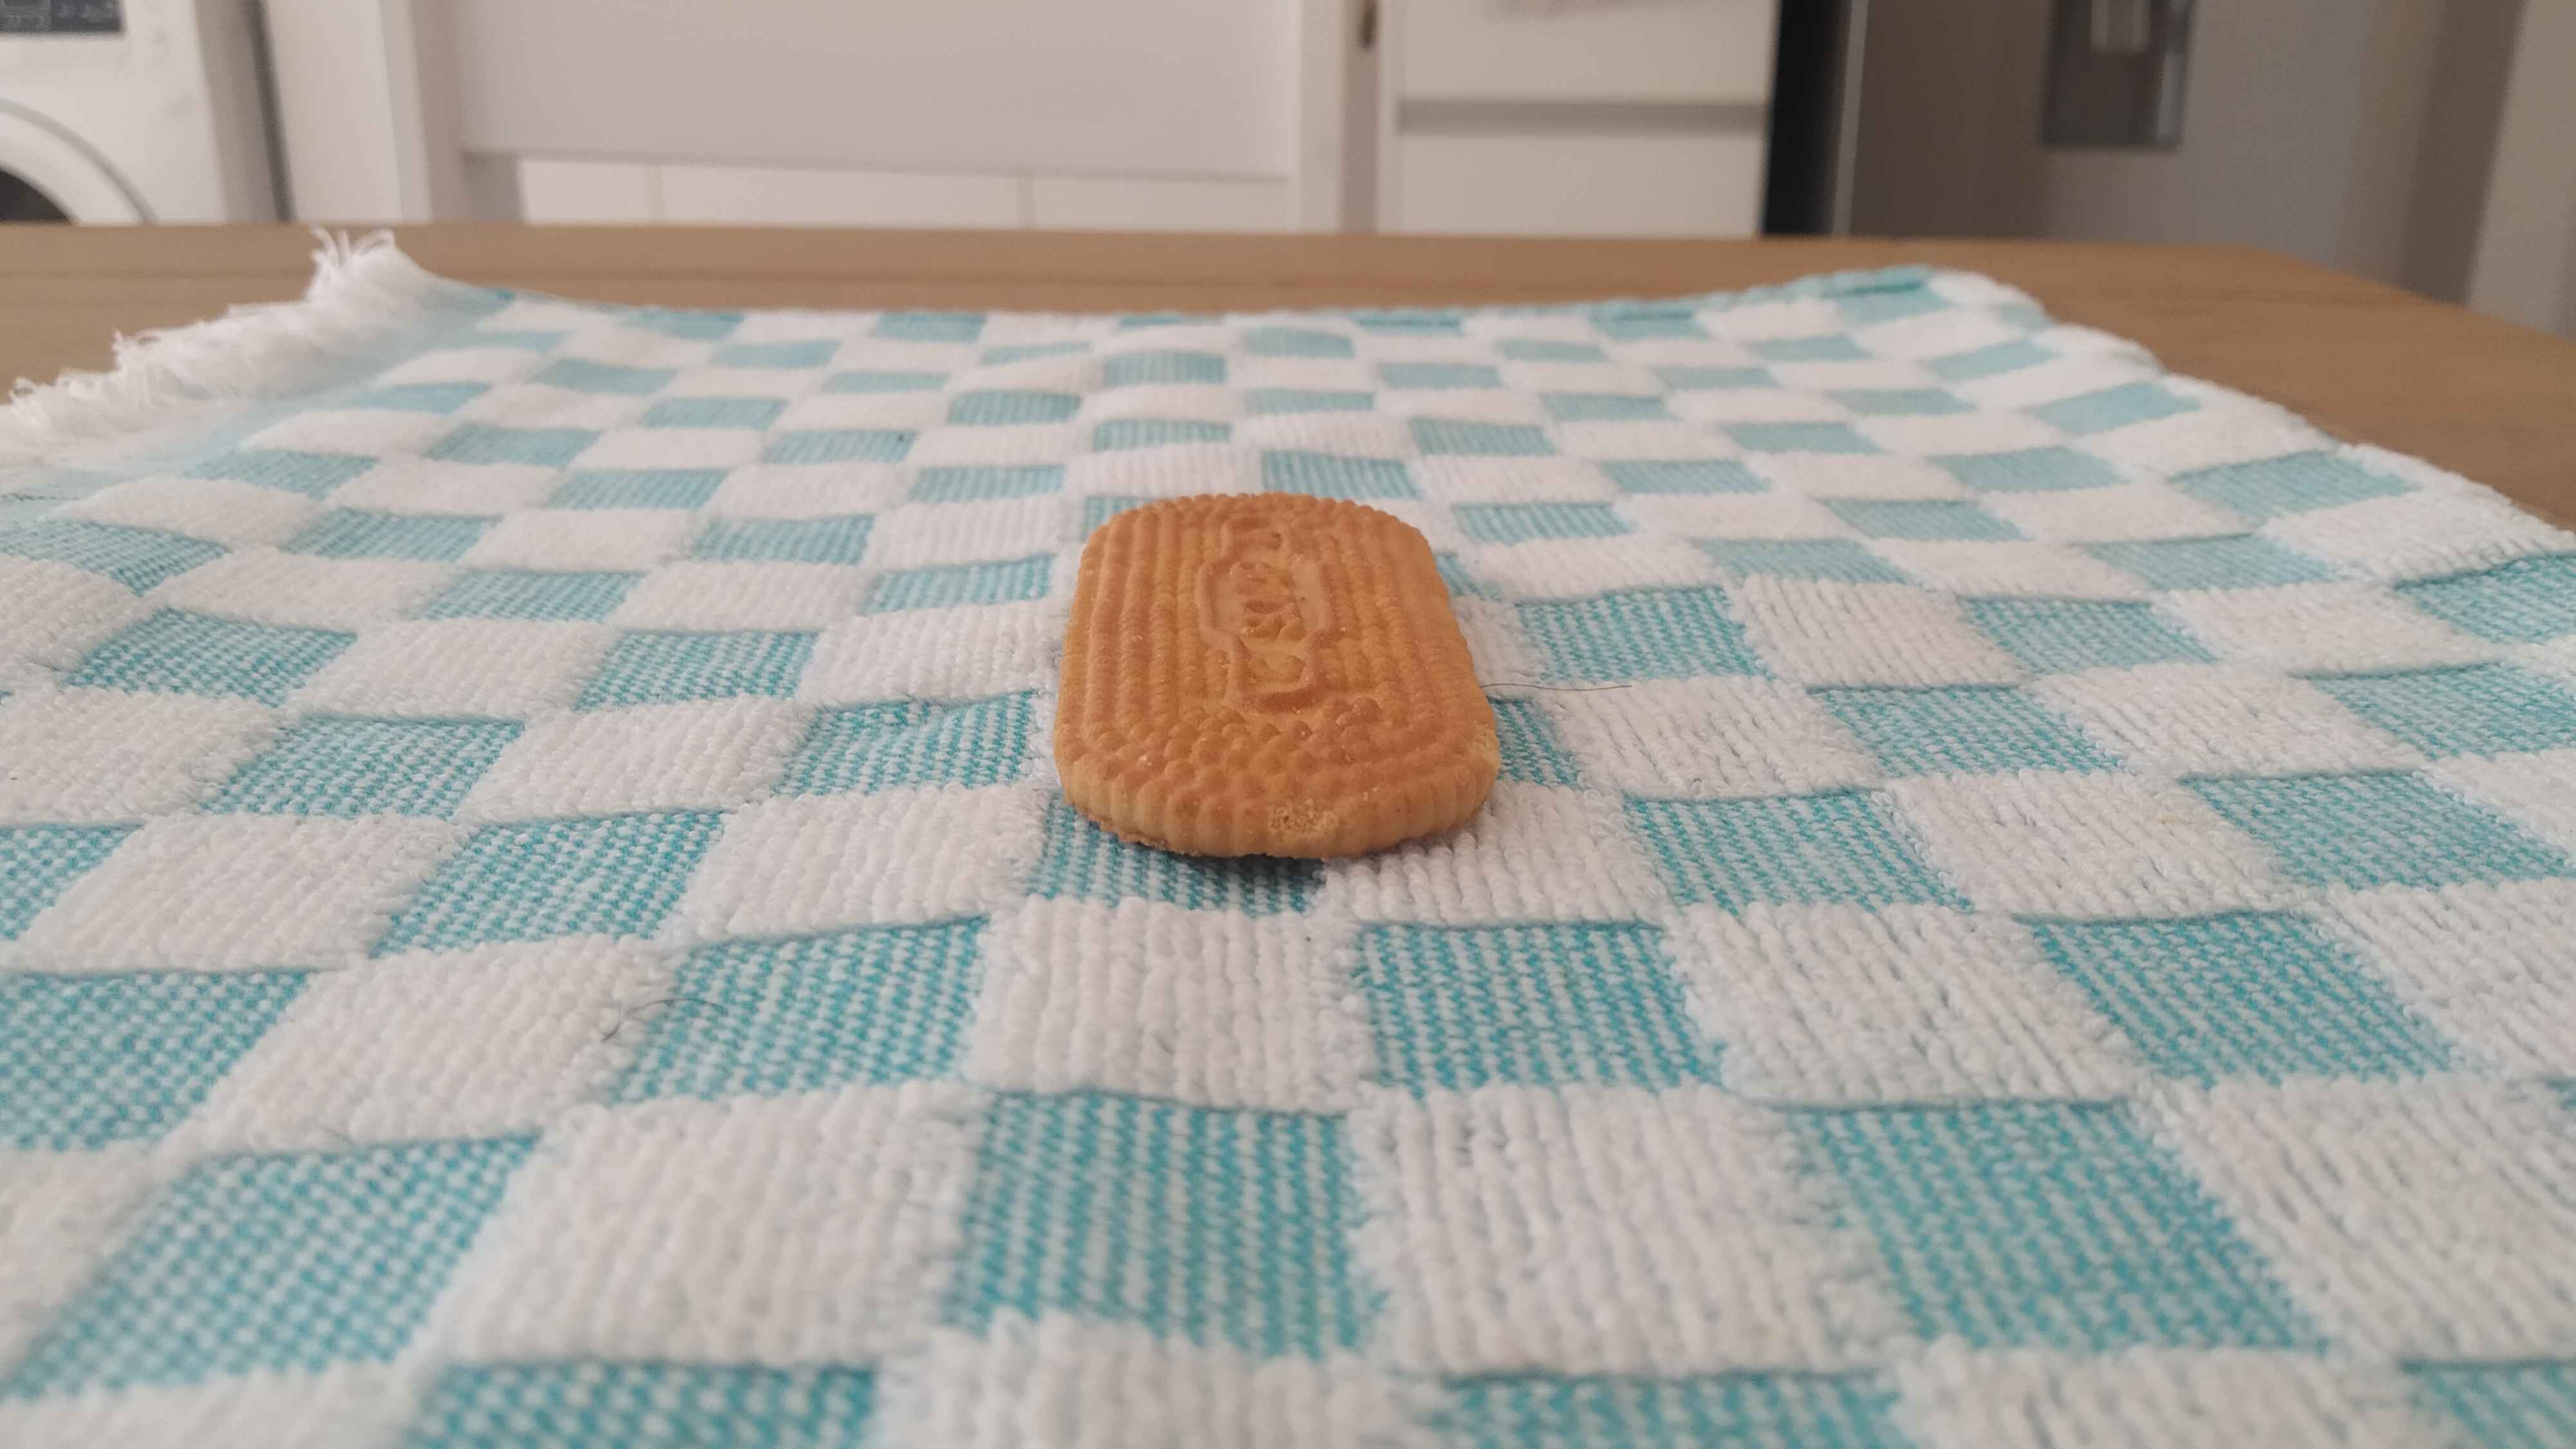solar: (1054, 494, 1500, 860)
